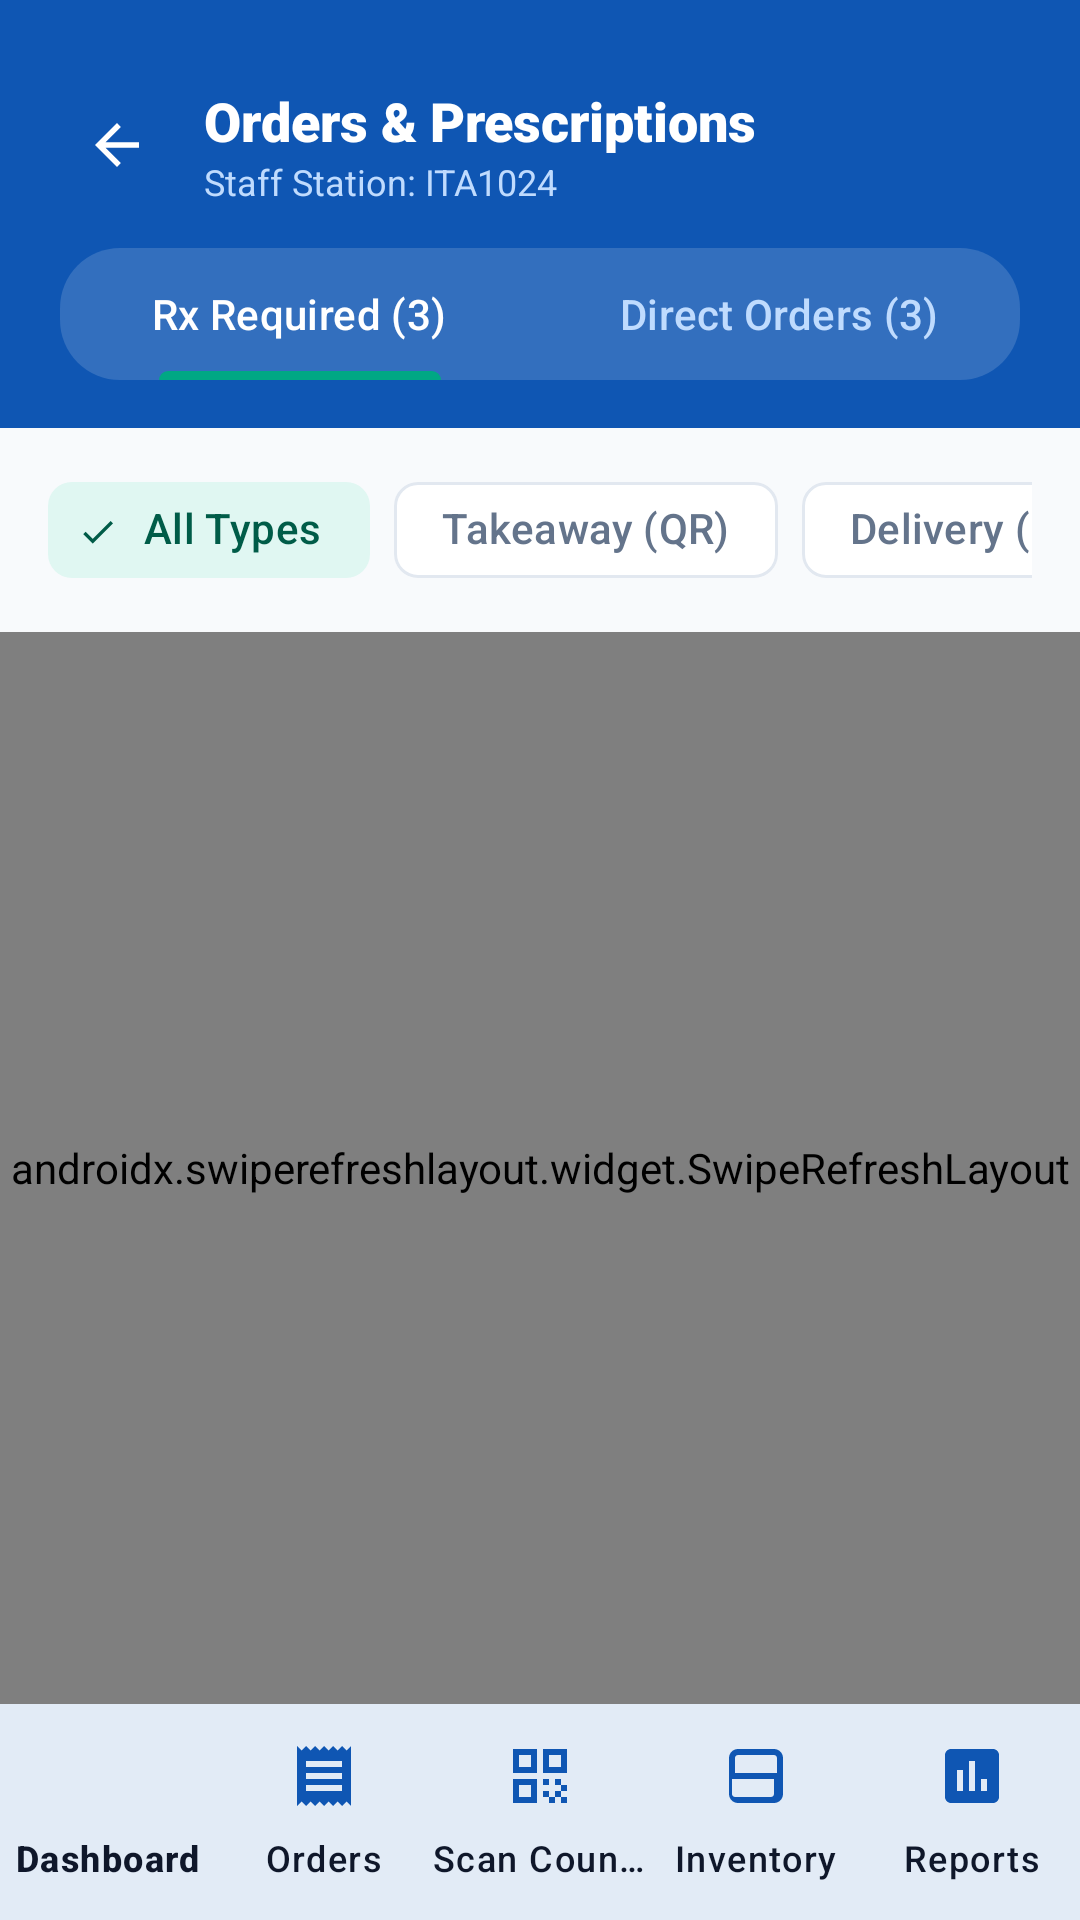

Screen size 1080 x 1920. Icon name, then its box in pixels as (x1, y1, x2, y2):
Back: (95, 123, 139, 167)
